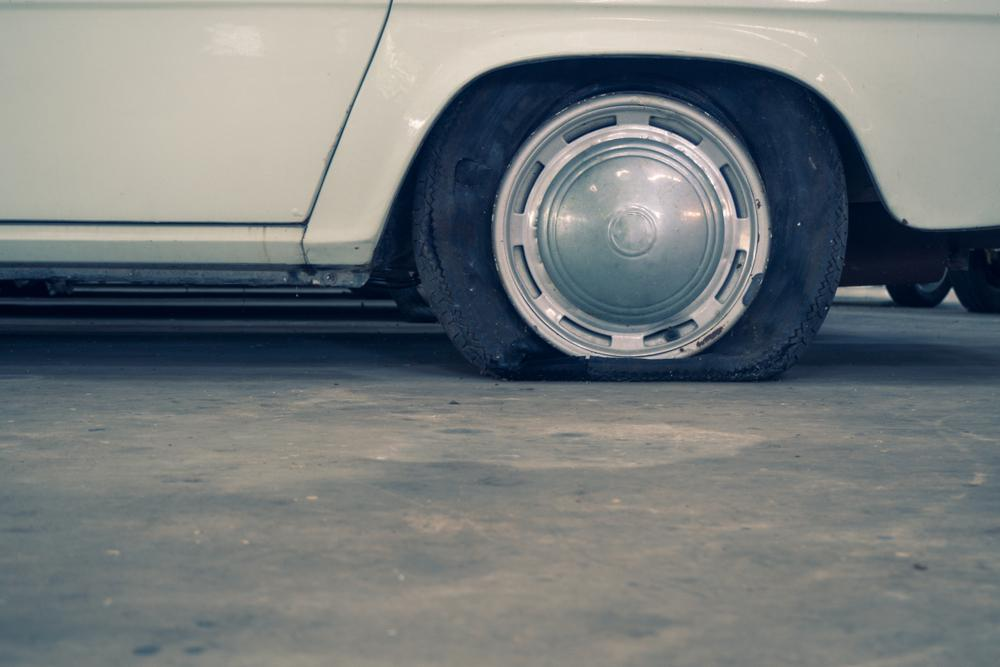tire flat: (416, 53, 848, 381)
